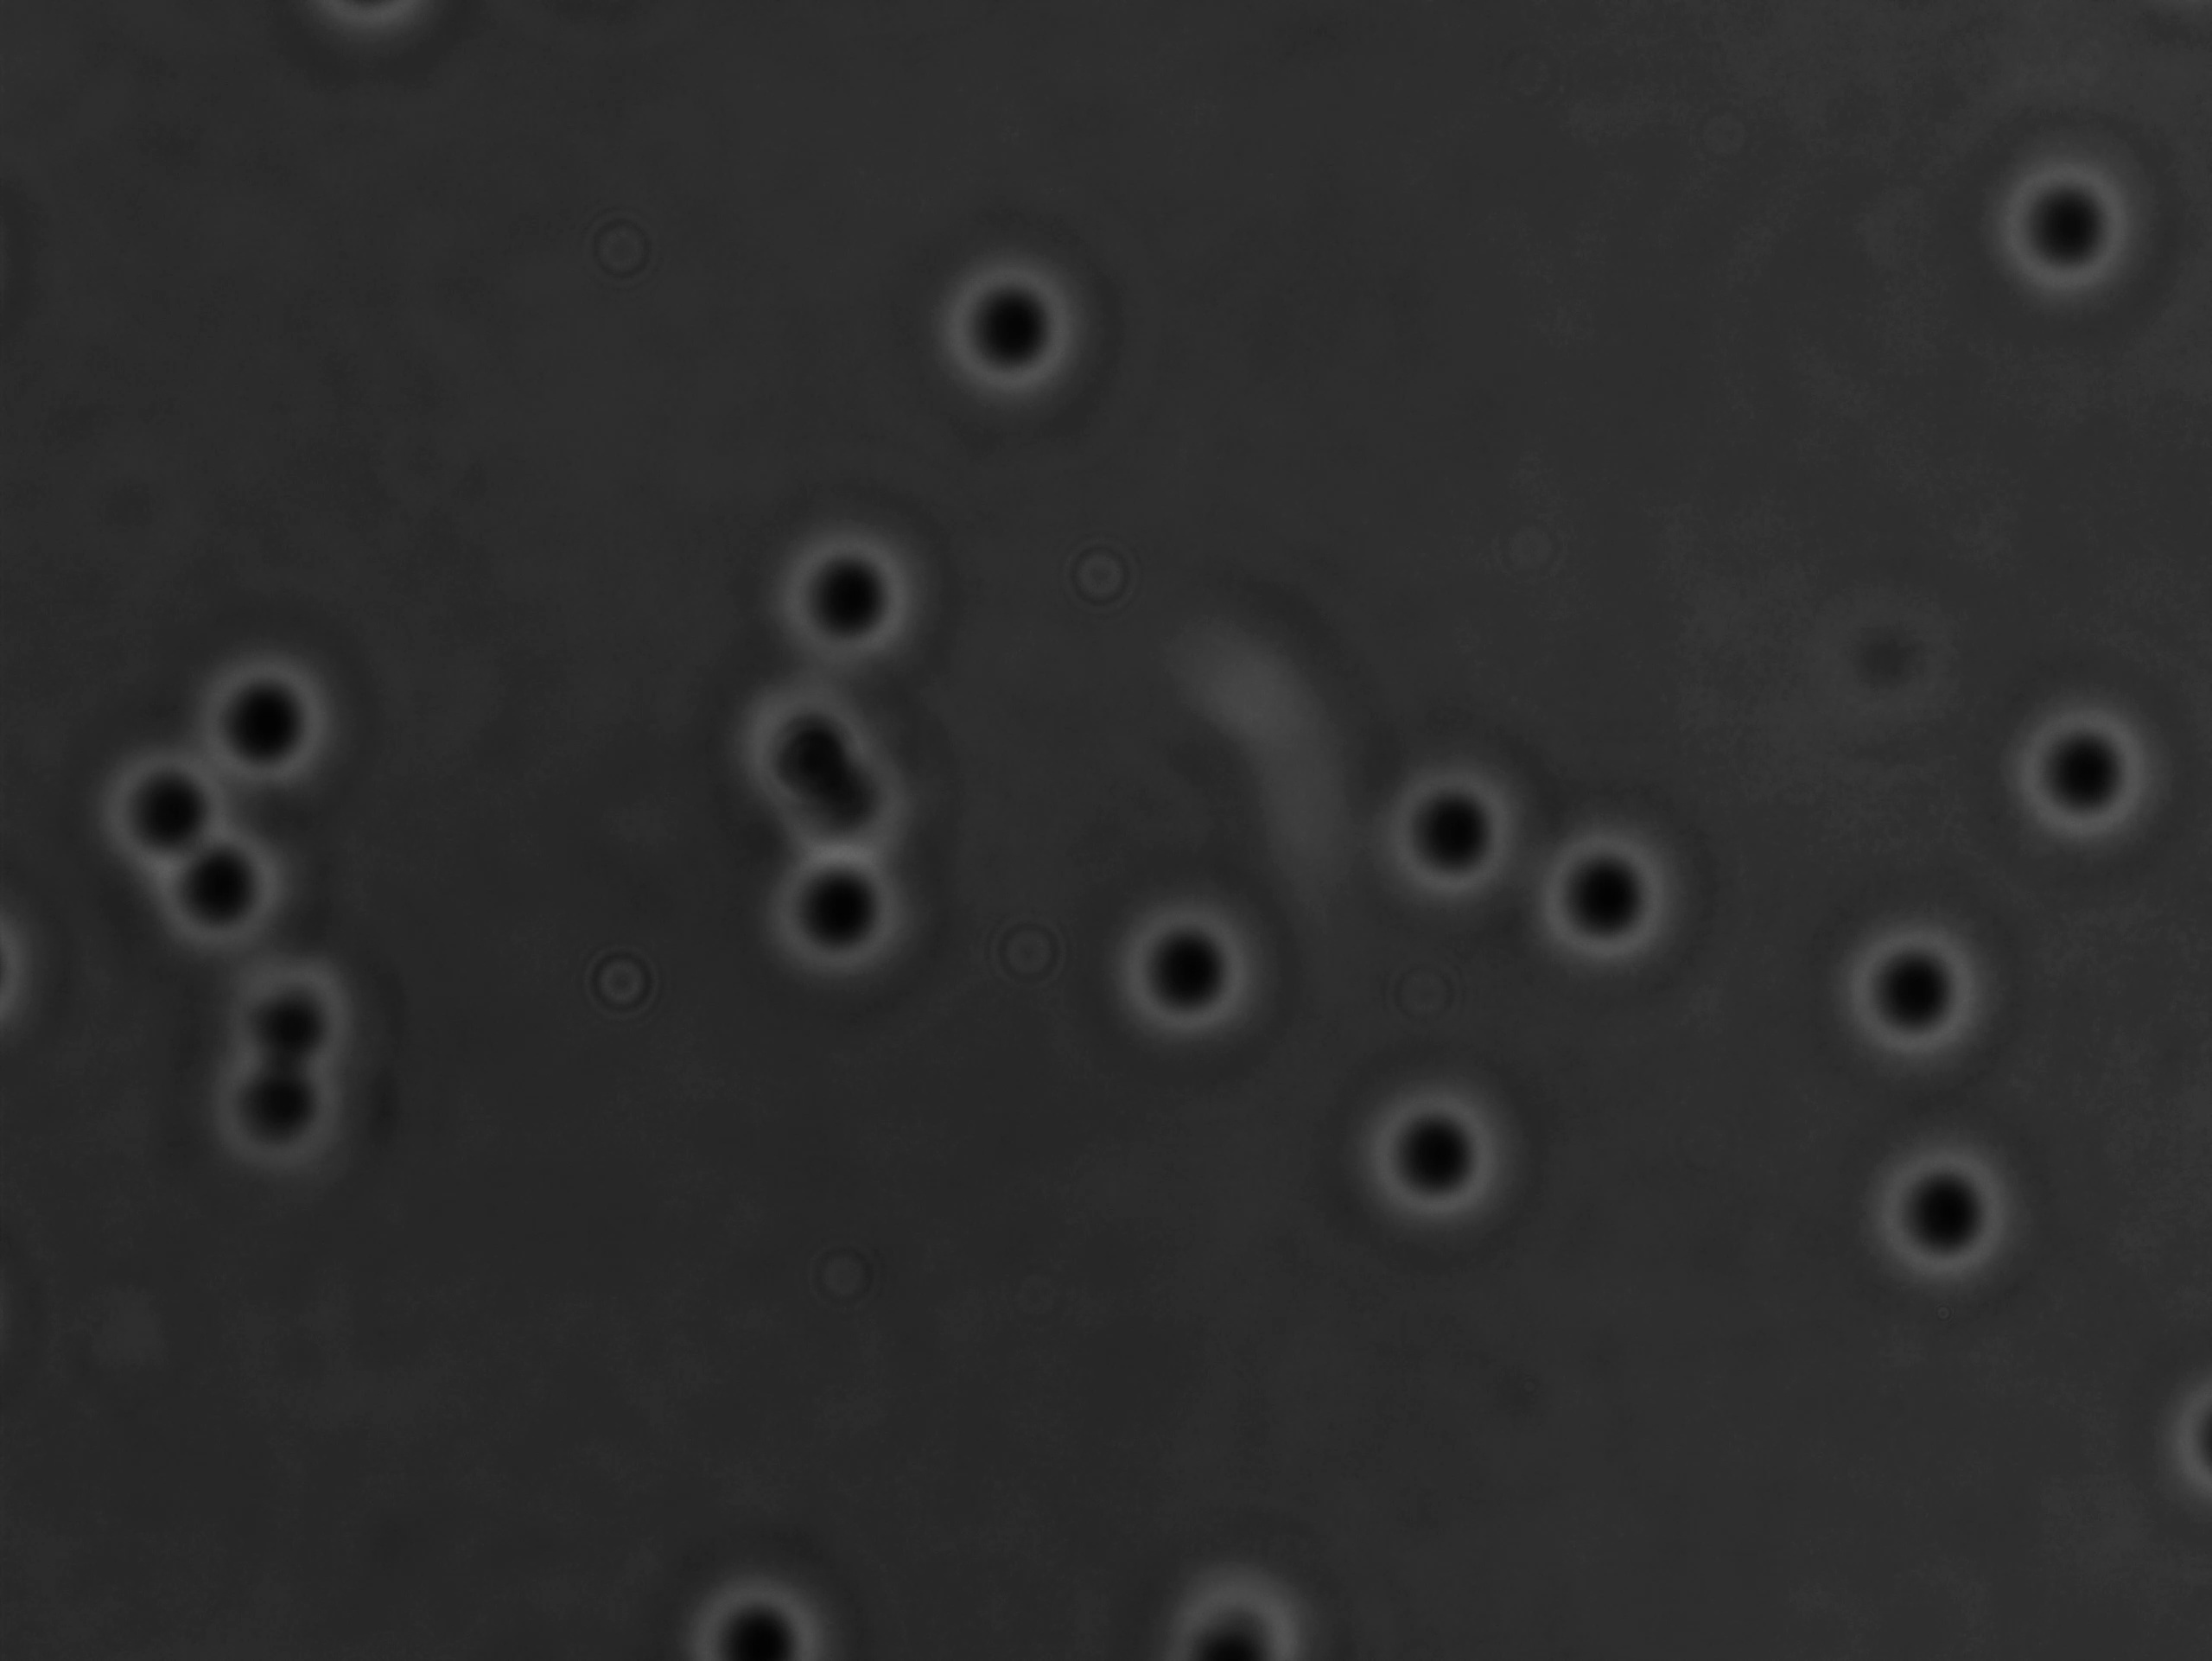depth:-80: (909, 227, 1111, 434), (743, 817, 946, 1014), (1819, 892, 2025, 1085), (1985, 663, 2168, 865), (1359, 729, 1544, 923), (194, 933, 394, 1110), (1348, 1075, 1530, 1261), (1519, 797, 1696, 989), (1104, 878, 1286, 1063), (1858, 1138, 2050, 1309), (759, 515, 940, 694), (180, 635, 356, 818), (1989, 154, 2168, 330), (119, 804, 300, 975), (188, 1040, 370, 1204), (73, 738, 258, 899)
